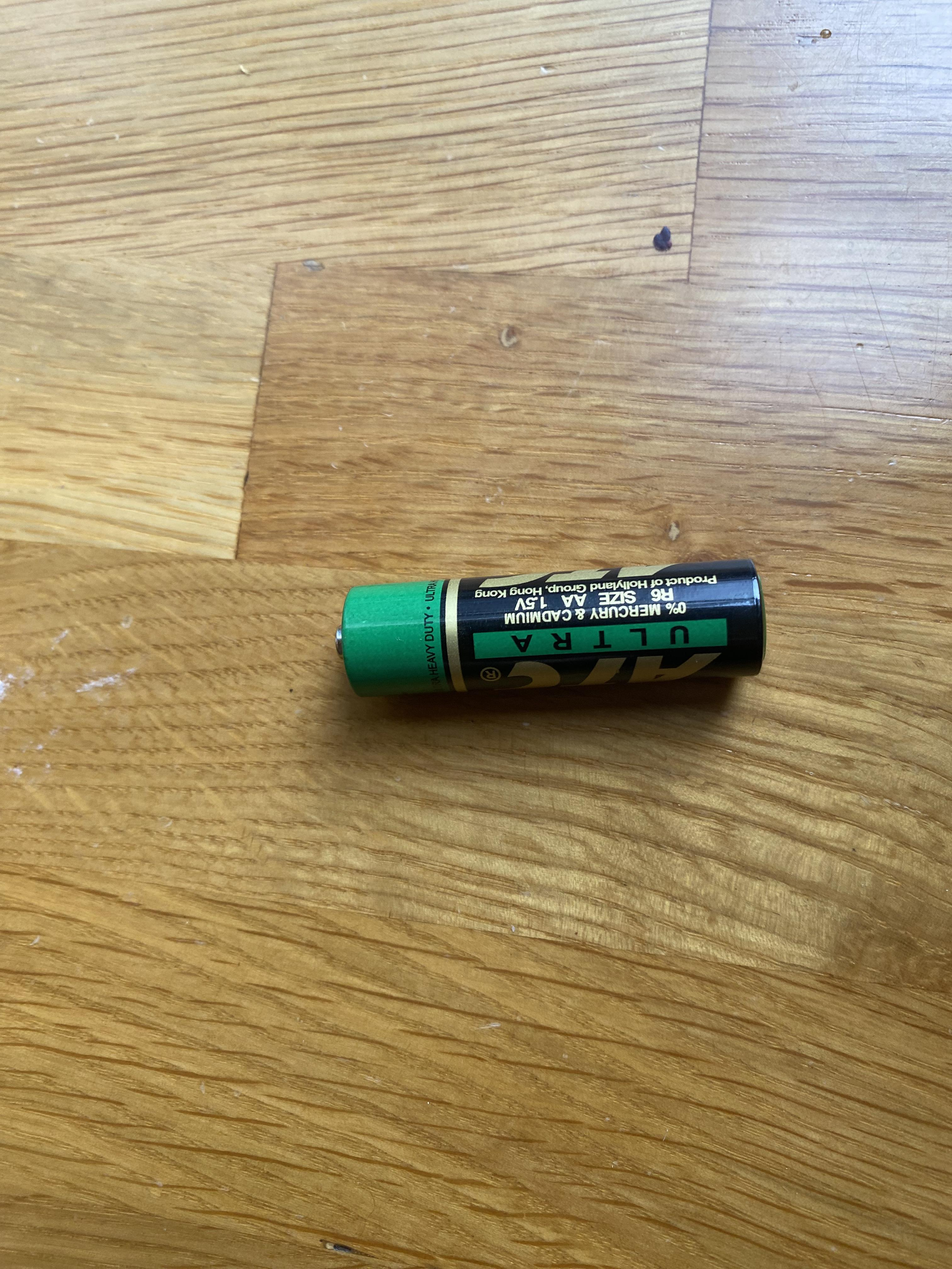AA: (334, 556, 766, 699)
